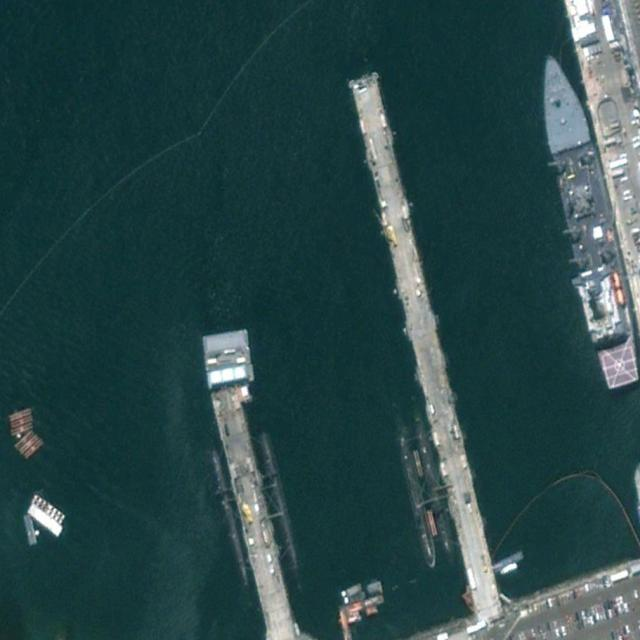Commander: (522, 45, 640, 395)
Submarine: (405, 390, 460, 570), (385, 399, 441, 573), (254, 427, 307, 597), (206, 444, 254, 591)
